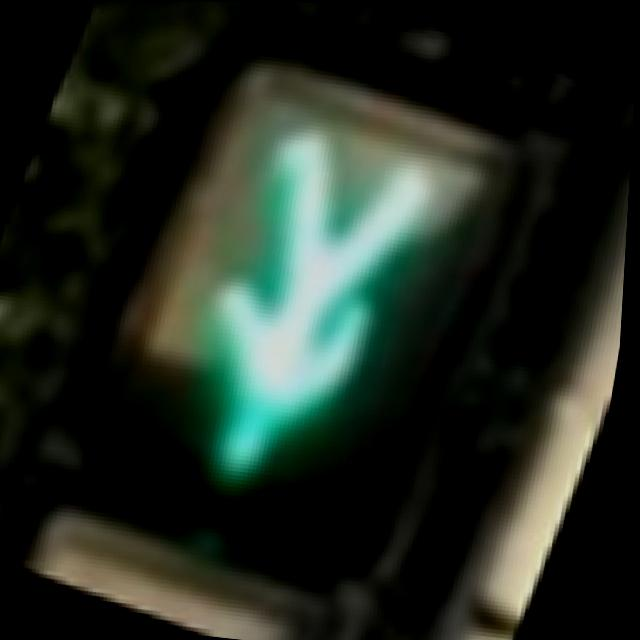green_light: (75, 65, 542, 592)
